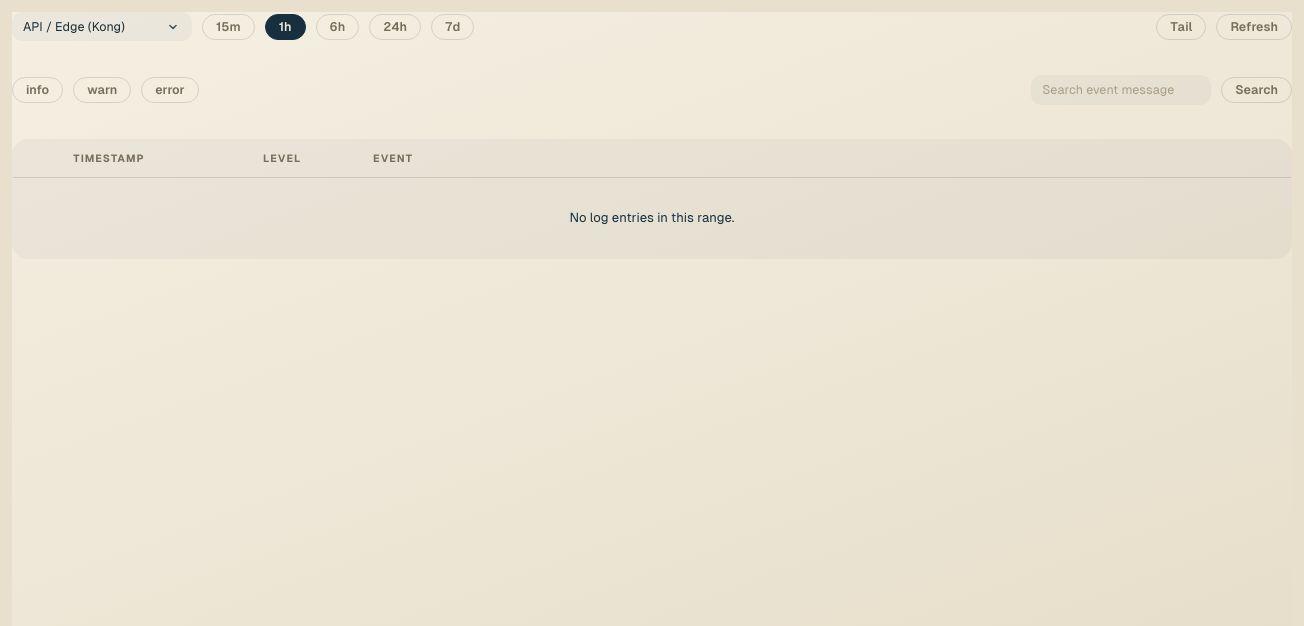
Test: LogsClient — query controls › preset chips refetch with the chosen preset
Click the button "24h" at [395, 26], box [369, 14, 421, 40]
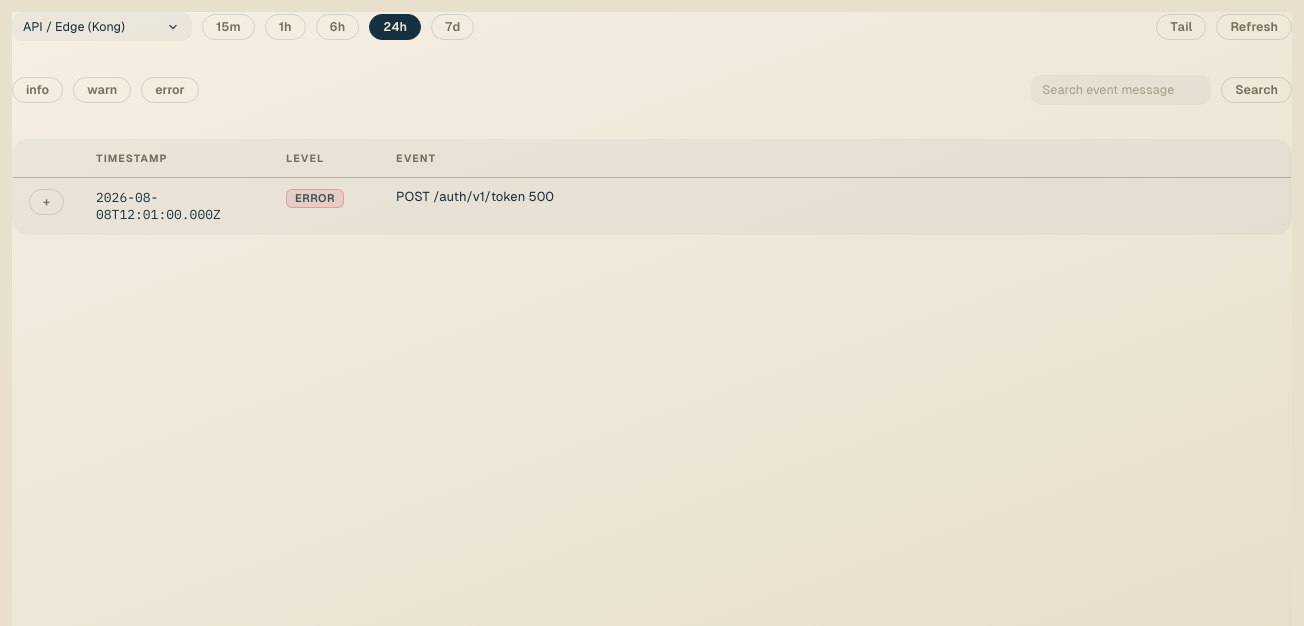
Check: the text "POST /auth/v1/token 500" is shown, box [396, 189, 554, 204]
